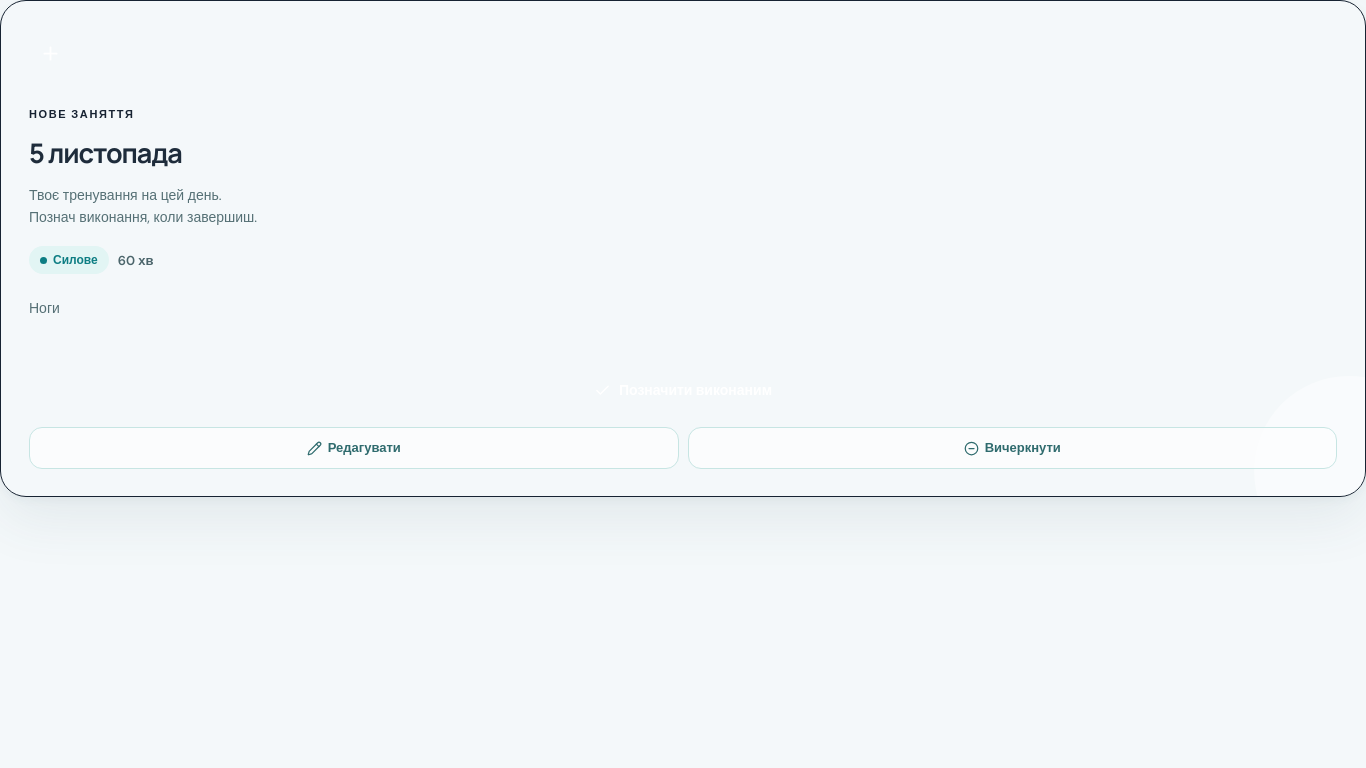
ActionCard › дозволяє перейти до редагування та скасувати зміни
Click the button "Редагувати": (354, 448) [29,427,678,469]
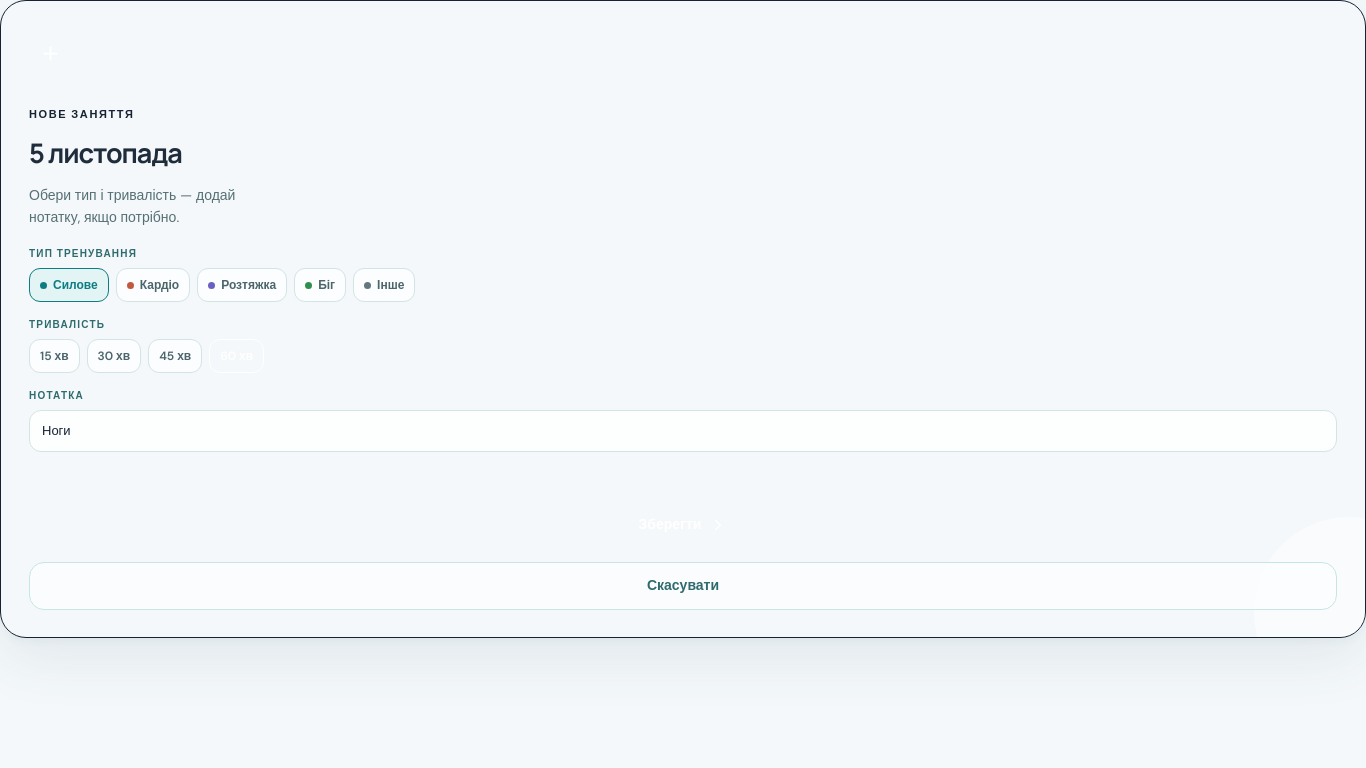
expect the form is shown: met, box [29,246,1337,610]
Click the button "Скасувати": (683, 586) [29,562,1337,610]
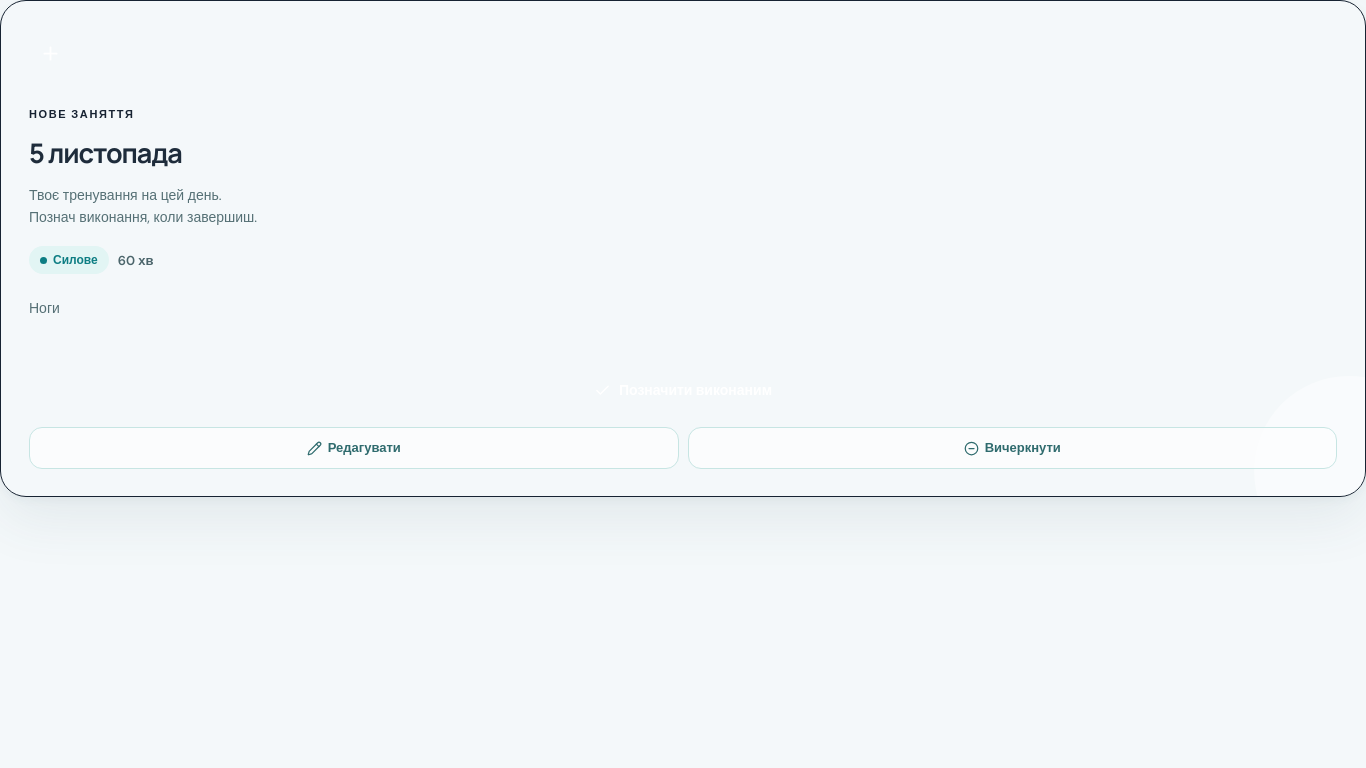
expect the form is gone: met
expect the text "Ноги" is shown: met, box [29,299,60,317]
